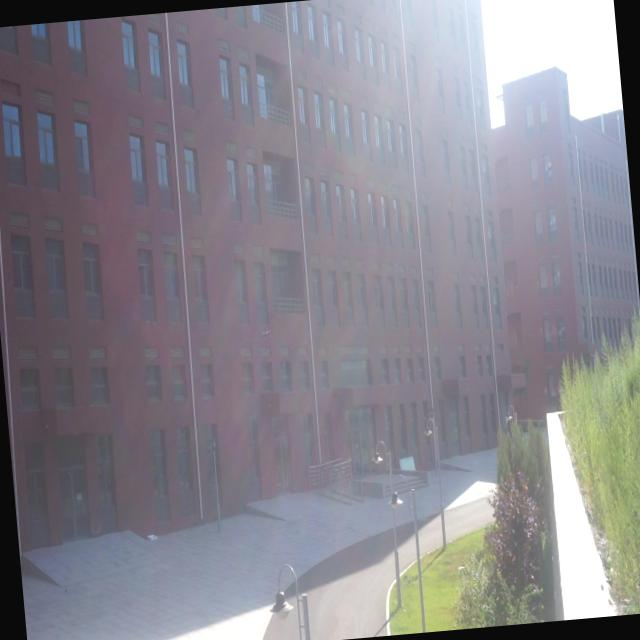drone: (255, 318, 278, 343)
